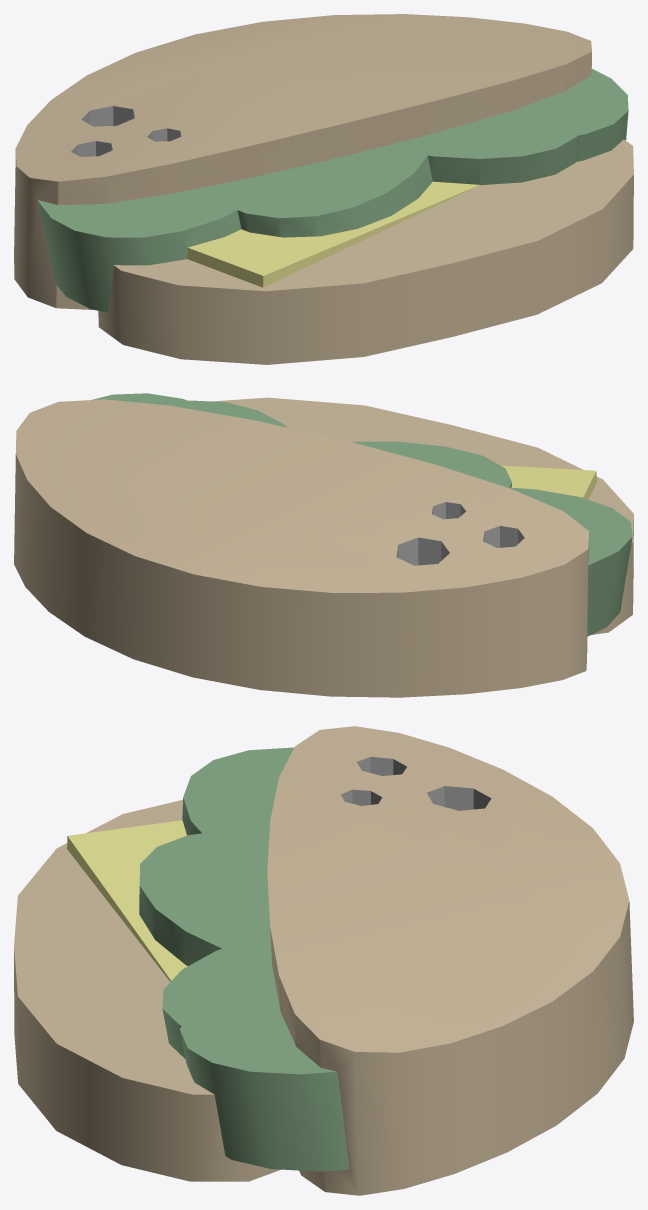
The model's file is Burger.fbx.
3 views of the same model, one above another, from view 1: azimuth 30°, elevation 25°; view 2: azimuth 150°, elevation 25°; view 3: azimuth 270°, elevation 25° (orthographic). The views are drawn at different scales.
Visible parts, largest first — view 1: pCylinder11, pCylinder12; view 2: pCylinder11, pCylinder12; view 3: pCylinder11, pCylinder12.
Part boxes in pixels (x1,y1,x2,y2): pCylinder11: (14,14,628,312); pCylinder12: (98,139,633,364); pCylinder11: (14,393,632,697); pCylinder12: (212,397,633,634); pCylinder11: (67,726,633,1195); pCylinder12: (14,800,280,1181).
Size of the model in its own units: 2.34 by 0.585 by 1.86.
